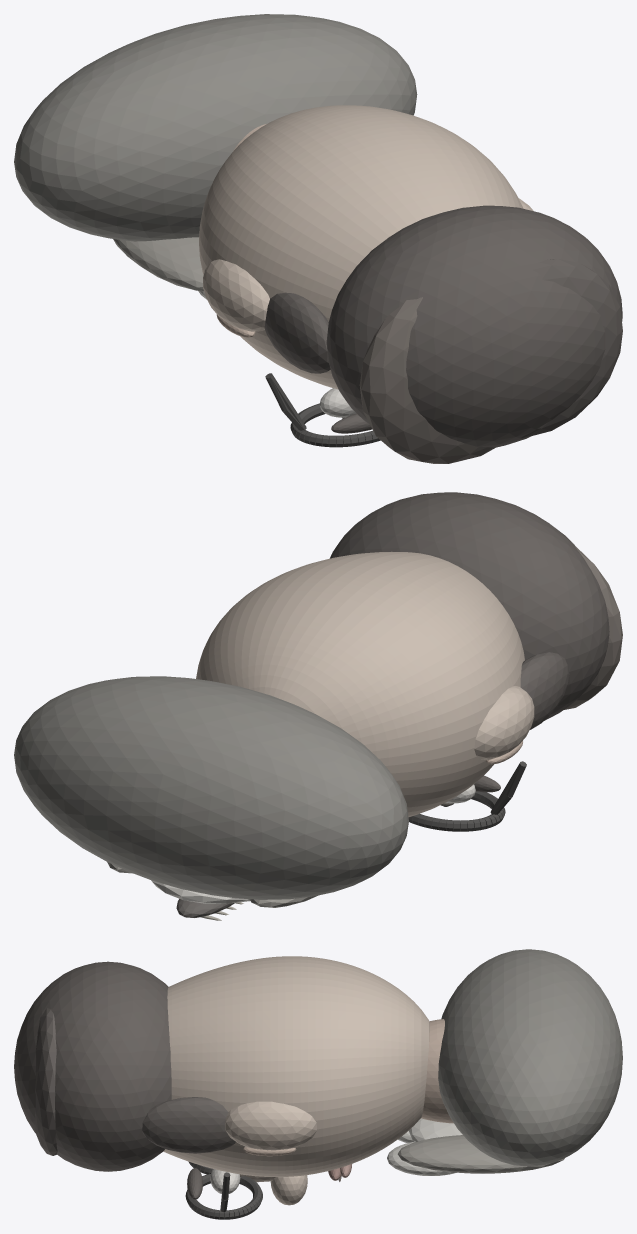
The model's file is kurt_godel_bust.glb.
The picture shows the model from 3 angles, top to bottom: view 1: azimuth 30°, elevation 25°; view 2: azimuth 150°, elevation 25°; view 3: azimuth 270°, elevation 25°; orthographic projection. The views are drawn at different scales.
Parts seen in each view (by area): view 1: part_001, part_133, part_003, part_134, part_135, part_136, part_004, part_148, part_008; view 2: part_001, part_003, part_133, part_004, part_136, part_134, part_002, part_141; view 3: part_003, part_001, part_133, part_137, part_005, part_149, part_135, part_000, part_127, part_002, part_139, part_012 (+1 smaller).
Part boxes in pixels (x1,y1,x2,y2): part_001: (14,14,417,241); part_133: (326,205,622,447); part_003: (199,105,523,389); part_134: (359,297,495,463); part_135: (521,259,622,437); part_136: (264,292,330,373); part_004: (203,259,269,331); part_148: (113,237,203,291); part_008: (319,388,356,417); part_001: (14,676,408,899); part_003: (196,551,524,816); part_133: (330,492,609,720); part_004: (474,686,534,759); part_136: (520,652,569,729); part_134: (564,542,622,709); part_002: (151,880,250,903); part_141: (176,899,234,917); part_003: (163,956,429,1176); part_001: (438,949,622,1166); part_133: (14,961,171,1171); part_137: (142,1097,235,1153); part_005: (225,1101,316,1150); part_149: (397,1135,564,1173); part_135: (35,1008,57,1155); part_000: (421,1019,453,1123); part_127: (270,1175,307,1205); part_002: (409,1118,462,1141); part_139: (387,1141,456,1175); part_012: (210,1169,240,1193).
Bounding box in the file's own units: 2.04 × 1.44 × 3.43.
